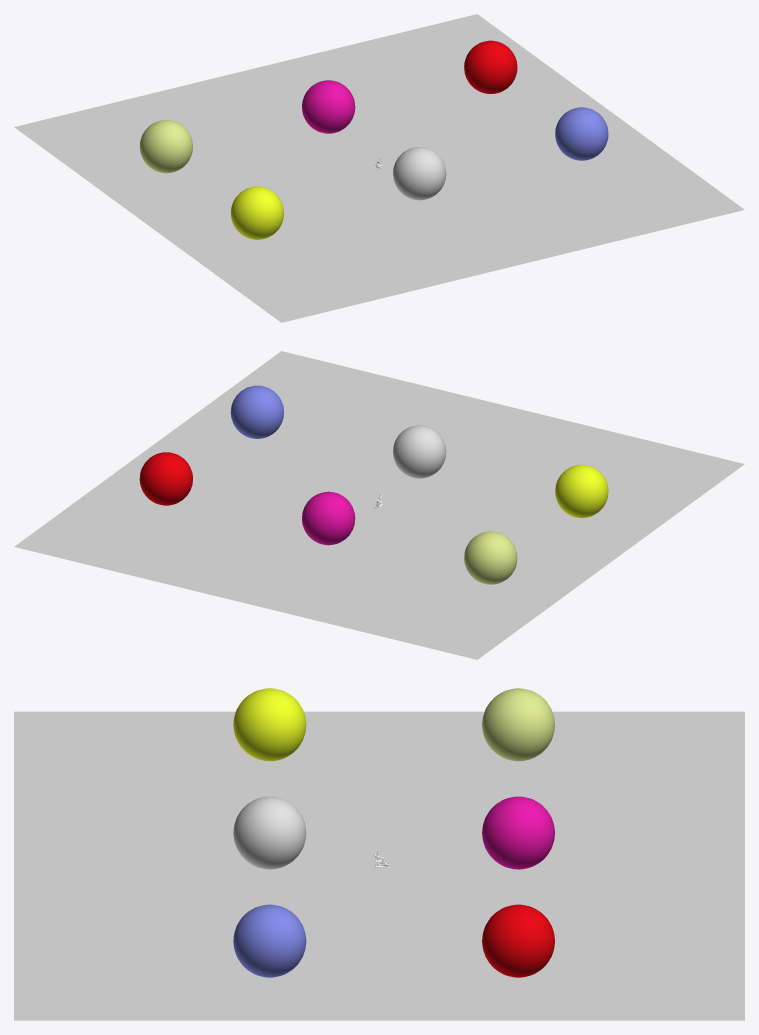
The model's file is pbr.glb.
3 views of the same model, one above another, from view 1: azimuth 30°, elevation 25°; view 2: azimuth 150°, elevation 25°; view 3: azimuth 270°, elevation 25° (orthographic). The views are drawn at different scales.
Visible parts, largest first — view 1: Plane, Sphere, Sphere.006, Sphere.002, Sphere.007, Sphere.008, Sphere.001; view 2: Plane, Sphere.006, Sphere.008, Sphere.002, Sphere.001, Sphere.007, Sphere; view 3: Plane, Sphere.007, Sphere.006, Sphere.002, Sphere, Sphere.008, Sphere.001.
Boxes of the visible parts, x1,y1,x2,y2 form: Plane: (14,14,744,322); Sphere: (555,107,608,160); Sphere.006: (464,40,517,93); Sphere.002: (230,186,283,239); Sphere.007: (302,80,355,133); Sphere.008: (139,120,192,173); Sphere.001: (393,147,446,200); Plane: (14,351,744,659); Sphere.006: (139,452,192,505); Sphere.008: (464,531,517,584); Sphere.002: (555,464,608,517); Sphere.001: (393,425,446,478); Sphere.007: (302,491,355,545); Sphere: (230,385,283,438); Plane: (14,711,744,1020); Sphere.007: (482,796,554,869); Sphere.006: (482,904,554,977); Sphere.002: (233,688,306,761); Sphere: (233,904,306,977); Sphere.008: (482,688,554,761); Sphere.001: (233,796,306,869).
Bounding box in the file's own units: 20 × 2 × 20.
